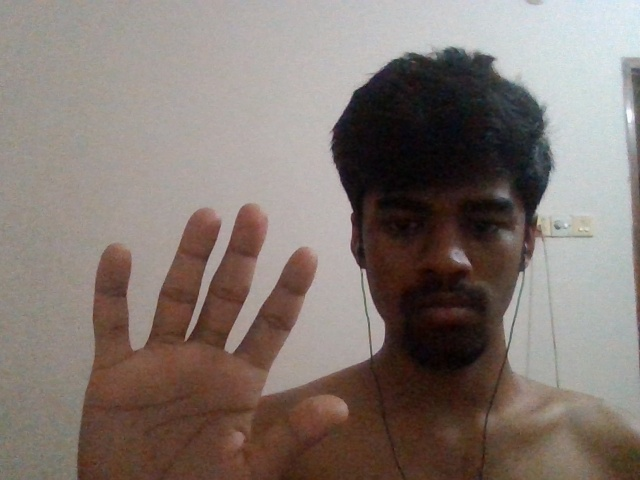Hello: (73, 200, 355, 480)
